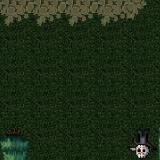Jason: (128, 126, 158, 160)
Obstacle: (0, 127, 30, 159)
